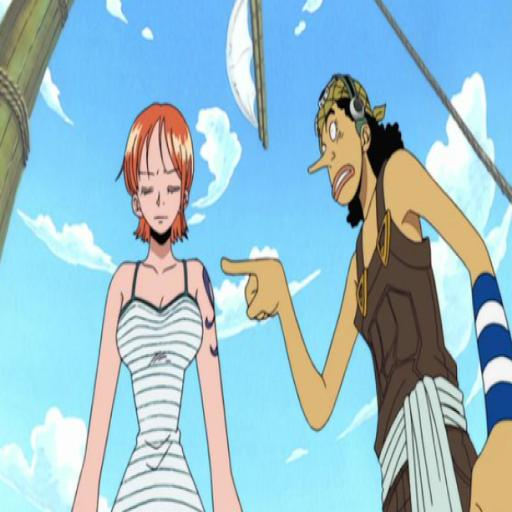Nami: (67, 94, 251, 512)
Usopp: (218, 65, 511, 512)
